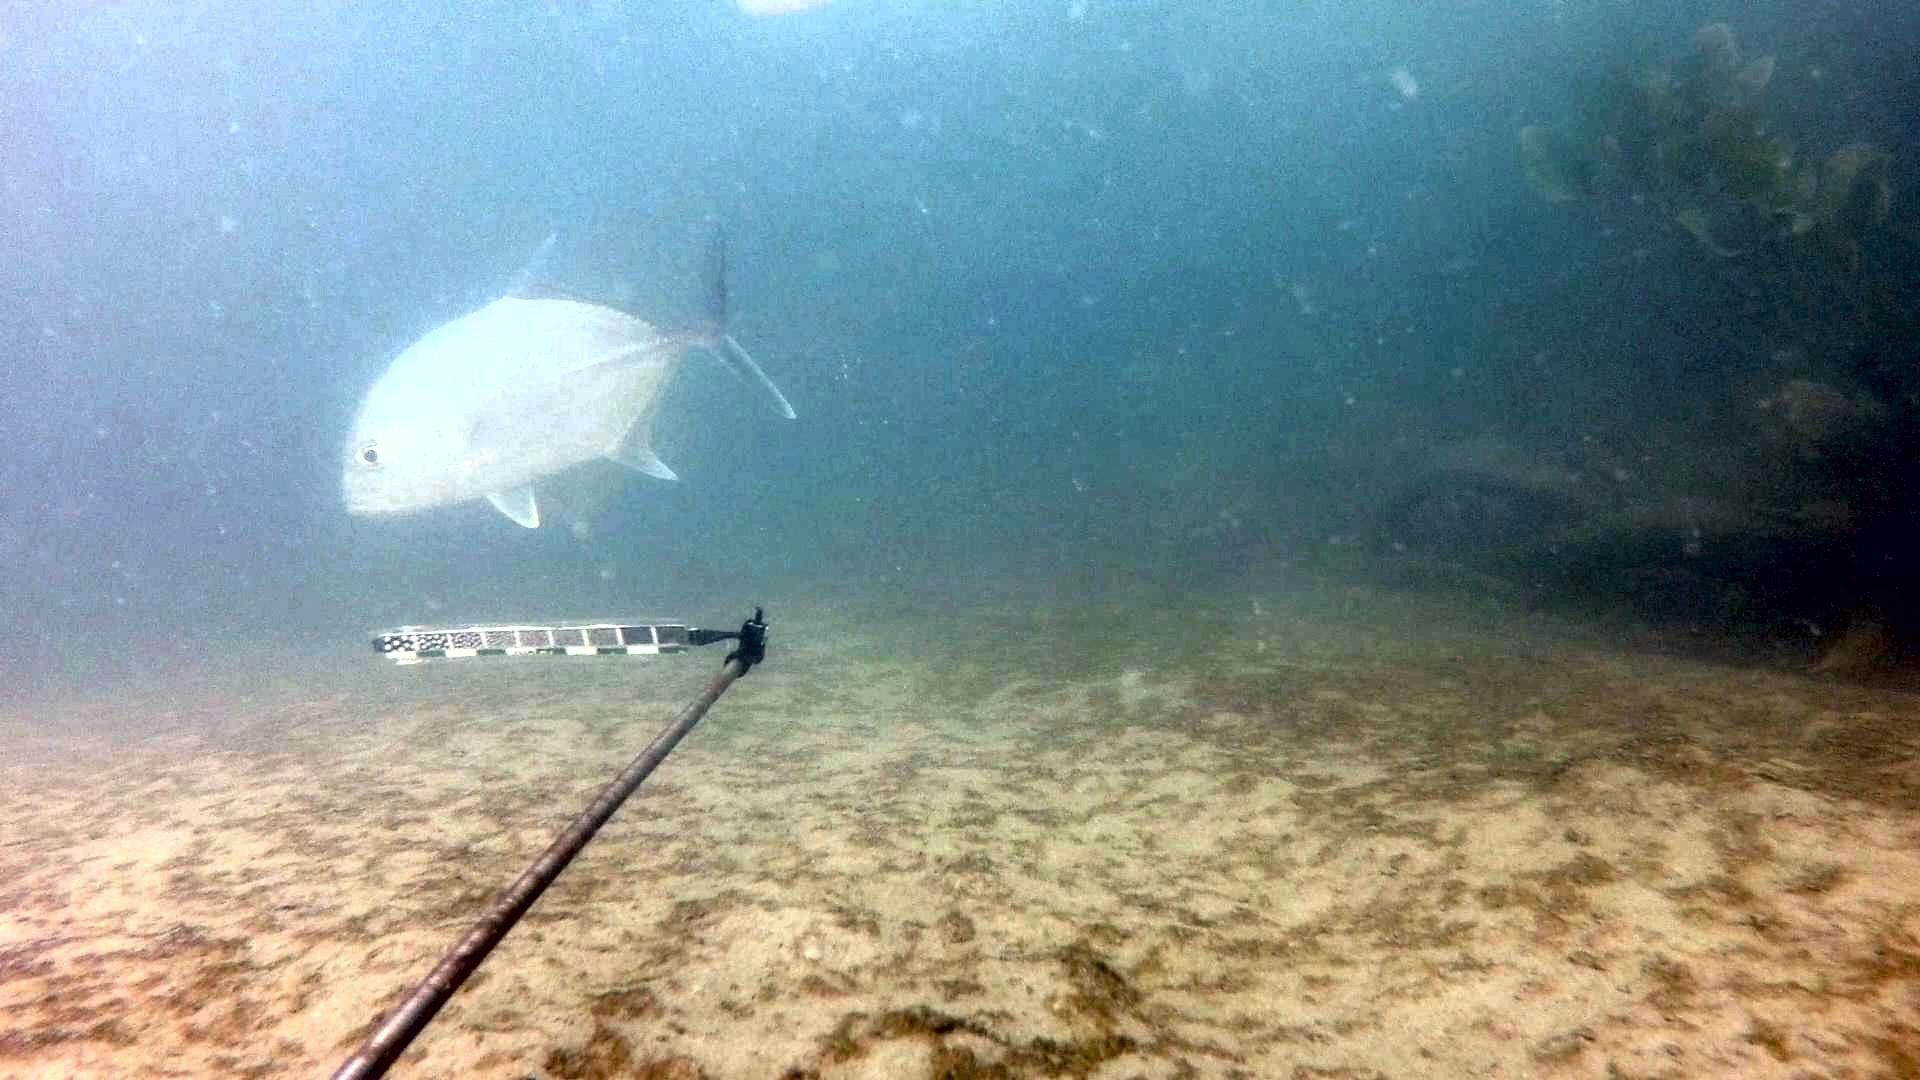caranx: (320, 198, 793, 530)
